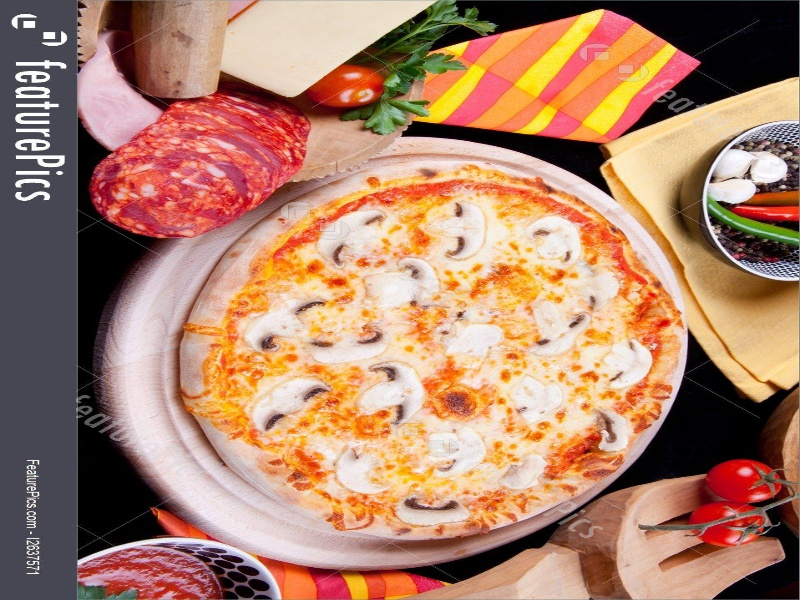champignon: (350, 359, 433, 429), (245, 372, 331, 434), (238, 293, 327, 351), (307, 315, 399, 370), (426, 196, 494, 268), (316, 208, 395, 267), (525, 207, 592, 275), (364, 259, 448, 313), (329, 440, 395, 507), (519, 303, 591, 358), (430, 428, 492, 484), (597, 339, 655, 391), (390, 494, 476, 525), (592, 406, 633, 460)
